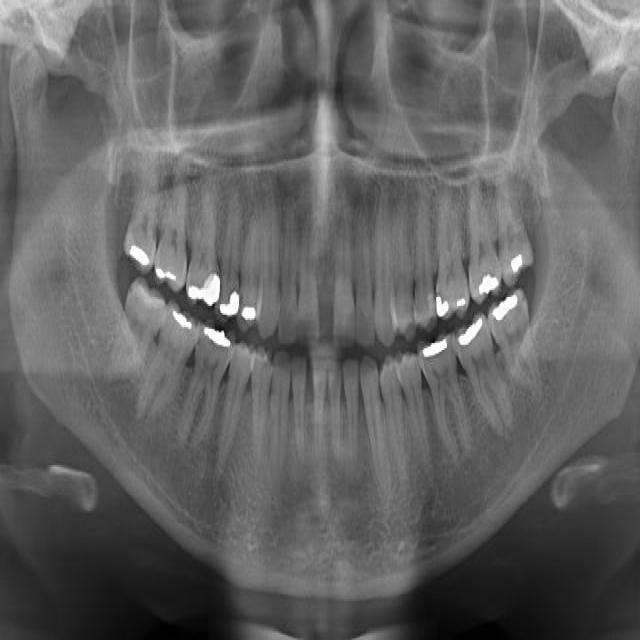dolgu: (484, 282, 524, 330), (430, 271, 470, 317), (181, 260, 220, 306), (199, 307, 233, 359), (449, 314, 487, 354), (124, 227, 154, 275), (164, 300, 197, 340), (419, 338, 451, 378), (150, 251, 181, 290), (506, 233, 532, 278), (472, 256, 502, 294), (216, 280, 240, 321), (236, 289, 261, 324)
